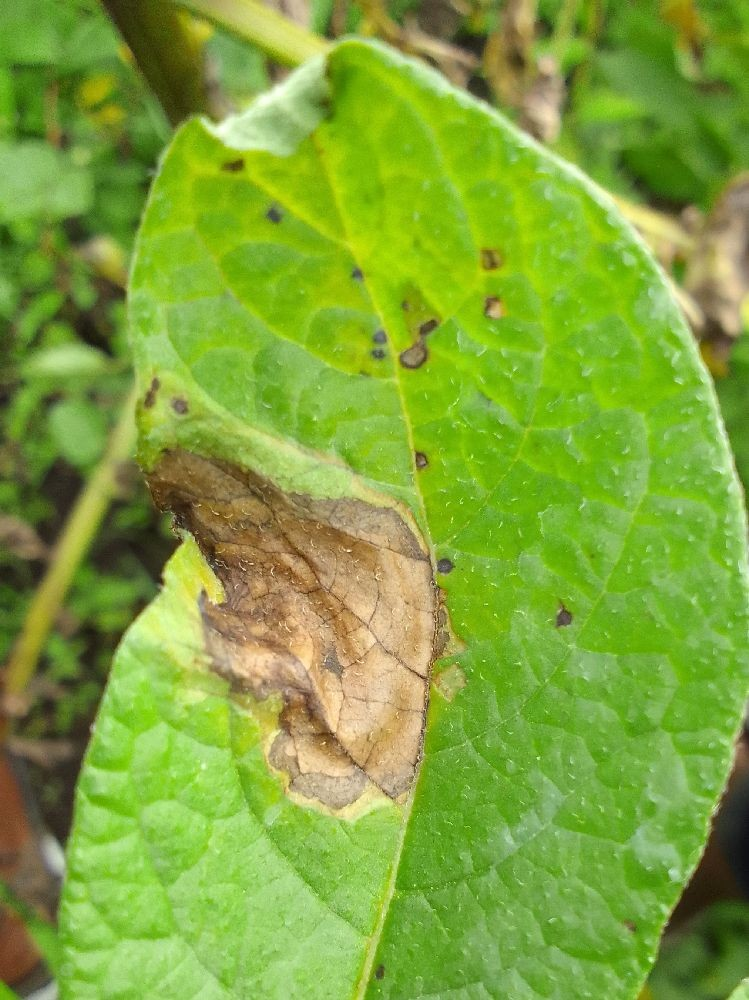late_blight: (0, 432, 473, 999), (337, 0, 610, 166), (605, 151, 749, 407), (82, 0, 244, 145)
